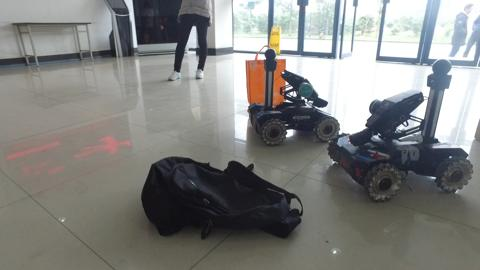bag: (139, 153, 298, 237)
chariot: (328, 57, 472, 201), (253, 48, 335, 143)
